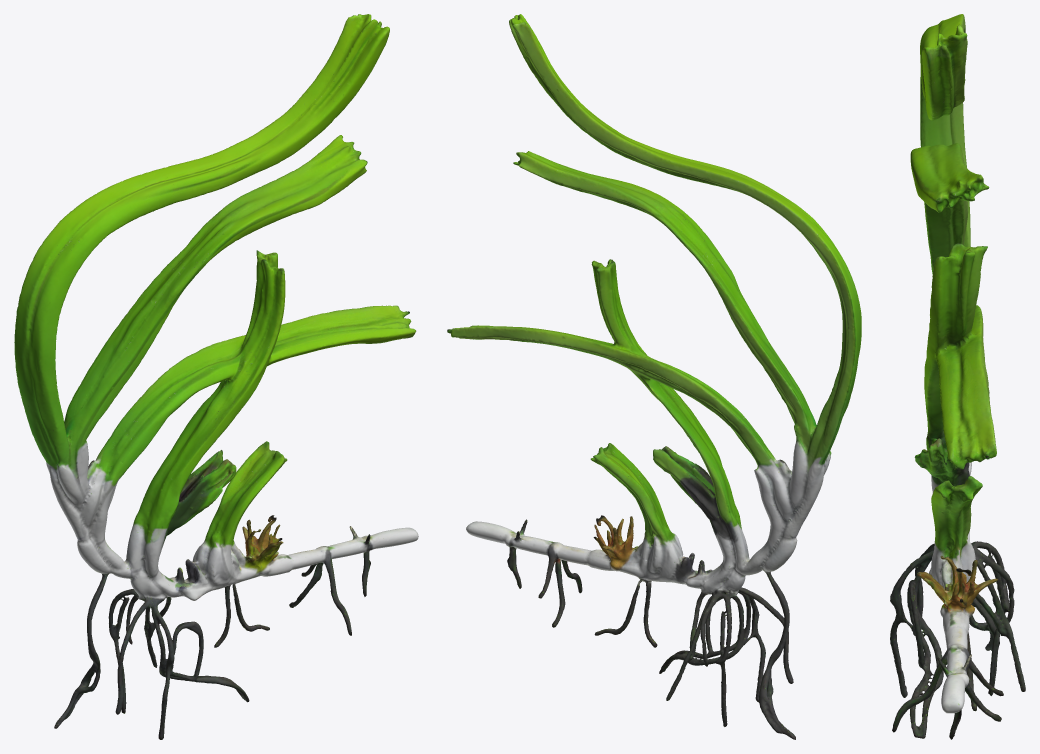
File: halodule_uninervis.glb
The picture shows the model from 3 angles, left to right: view 1: azimuth 30°, elevation 25°; view 2: azimuth 150°, elevation 25°; view 3: azimuth 270°, elevation 25°; orthographic projection. The views are drawn at different scales.
Size of the model in its own units: 1.29 by 2 by 0.3075.
1 material, 1 textured.
